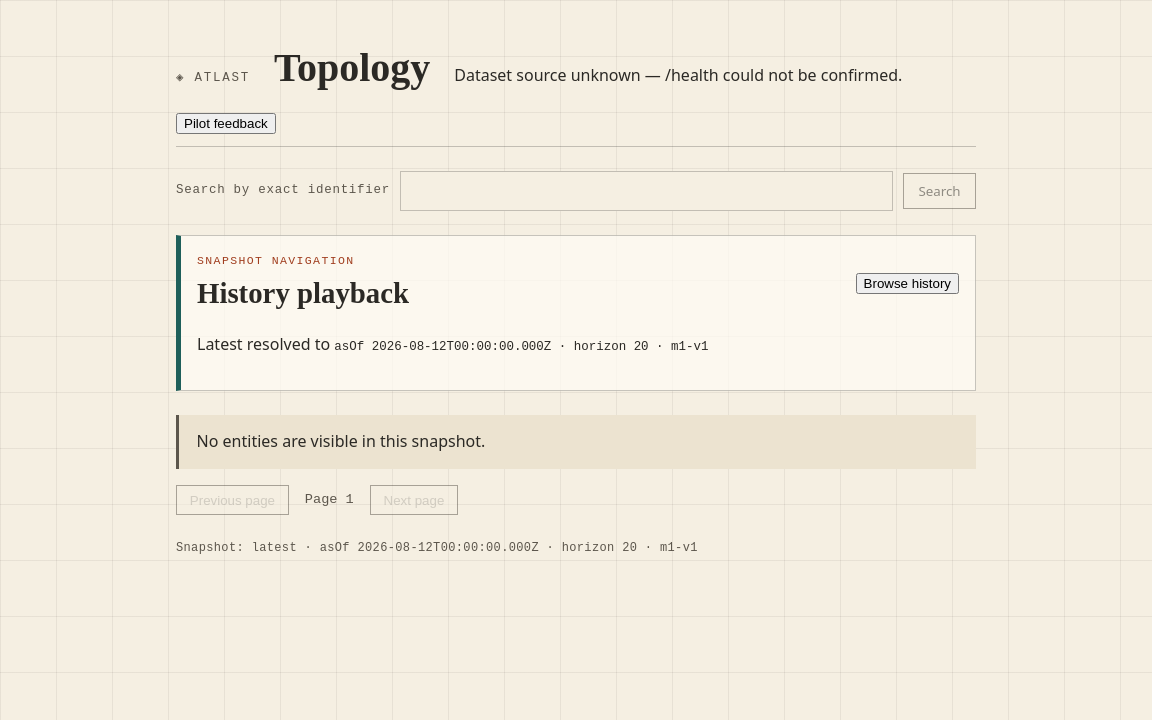
Scenario: TopologyPage — search › shows an inline hint and disables submission for a too-short query
Check: the text "No entities are visible in this snapshot." is shown, box x1=176 y1=415 x2=976 y2=469
Type "c" into the search field labelled "Search by exact identifier". click: (646, 191)
box: x1=400 y1=171 x2=893 y2=211
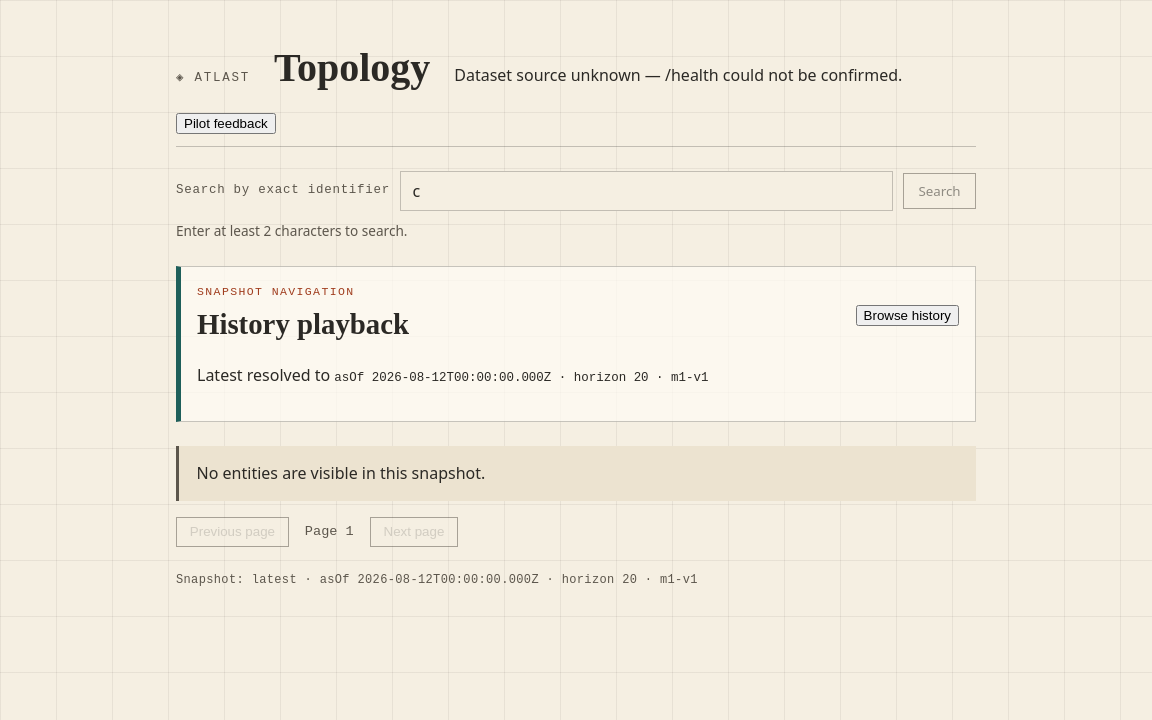
Check: the button "Search" is disabled, box x1=903 y1=173 x2=976 y2=209
Check: the text "Enter at least 2 characters to search." is shown, box x1=176 y1=221 x2=408 y2=240
